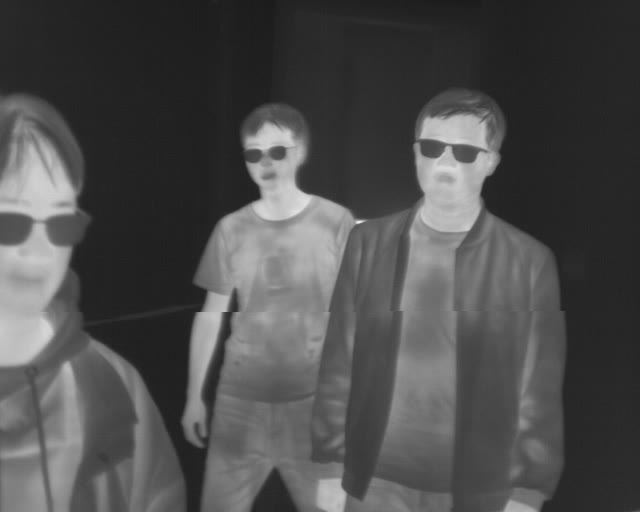face: (1, 91, 86, 311), (411, 87, 506, 211), (238, 101, 312, 197)
